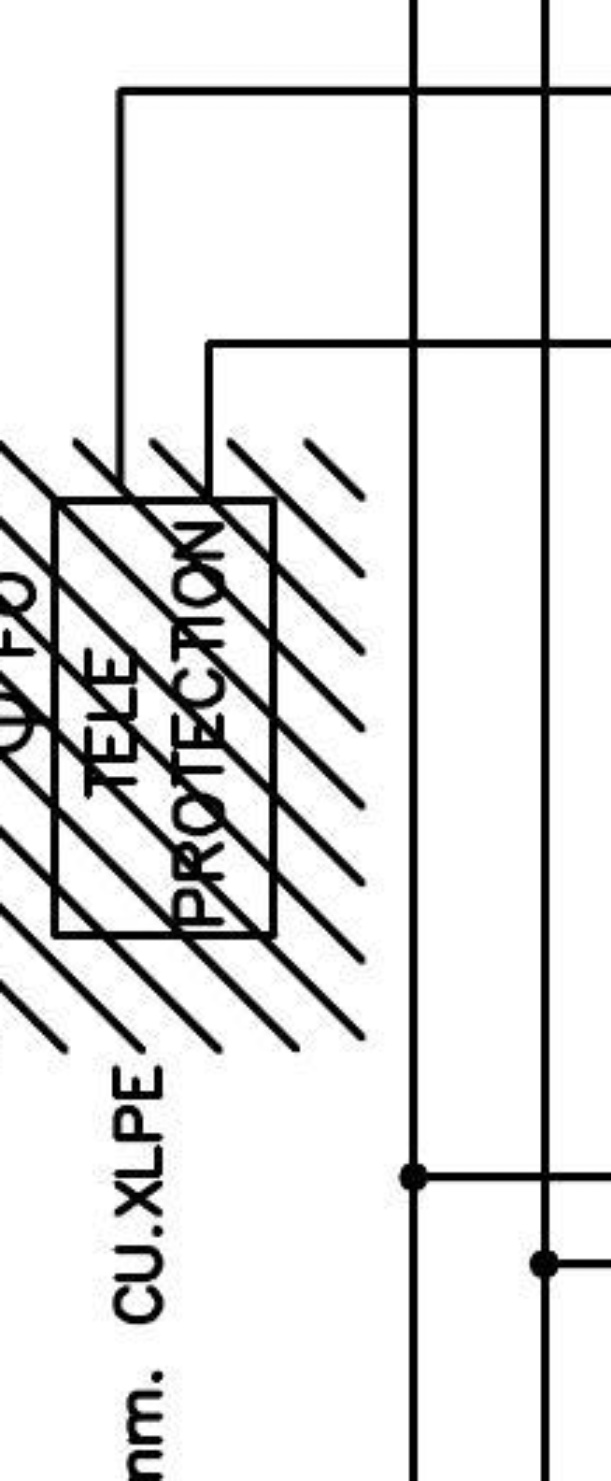tele_protection: (43, 489, 286, 948)
